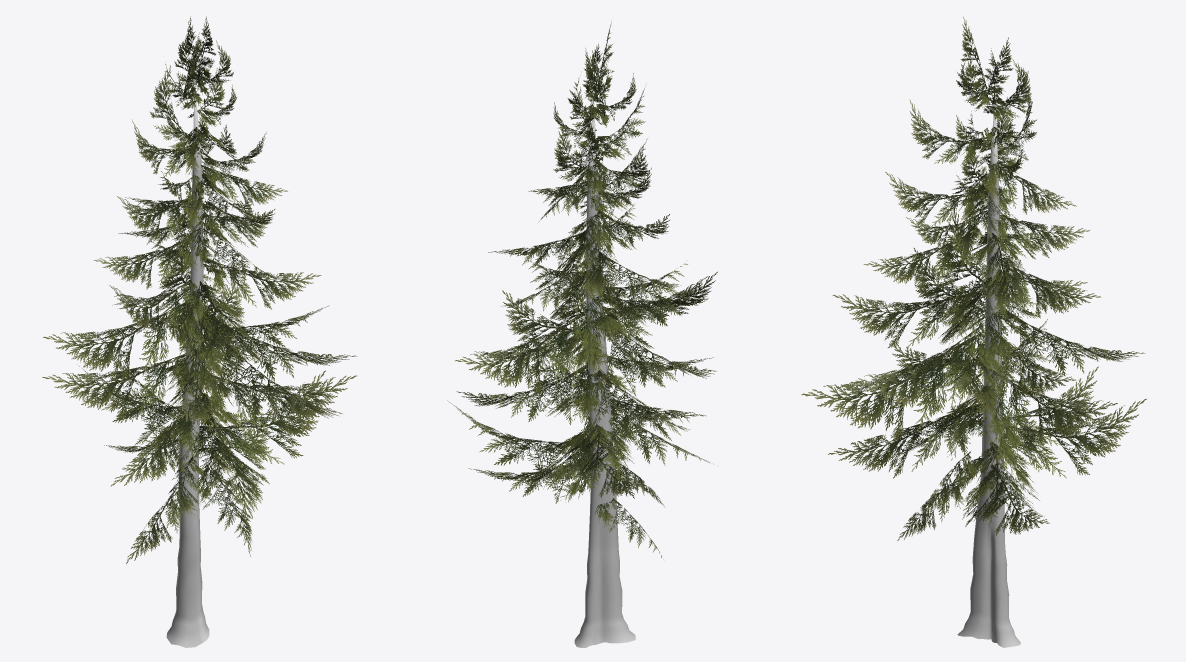
File: SM_Veg_Tree_Fir_01.FBX
The picture shows the model from 3 angles, left to right: view 1: azimuth 30°, elevation 25°; view 2: azimuth 150°, elevation 25°; view 3: azimuth 270°, elevation 25°; orthographic projection.
Parts seen in each view (by area): view 1: SM_Veg_Tree_Fir_01_LOD0; view 2: SM_Veg_Tree_Fir_01_LOD0; view 3: SM_Veg_Tree_Fir_01_LOD0.
Part boxes in pixels (left/top/right/bottom): SM_Veg_Tree_Fir_01_LOD0: left=42, top=16, right=357, bottom=647; SM_Veg_Tree_Fir_01_LOD0: left=447, top=22, right=717, bottom=647; SM_Veg_Tree_Fir_01_LOD0: left=801, top=16, right=1146, bottom=647.
Size of what is drawn, in the model's own units: 7.55 by 14.23 by 8.05.
